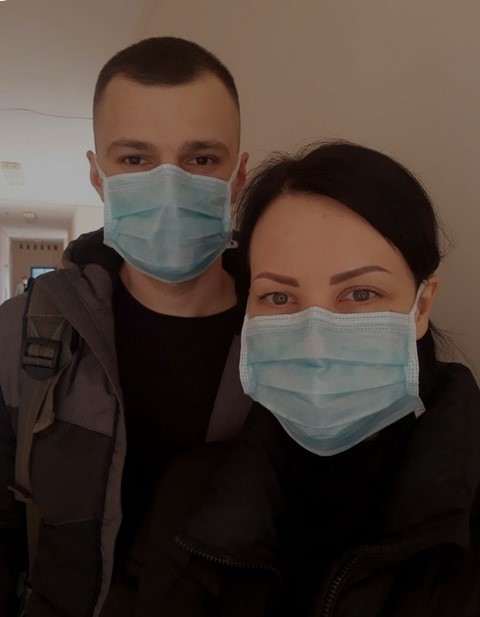face_with_mask: (243, 178, 436, 458), (93, 70, 242, 278)
